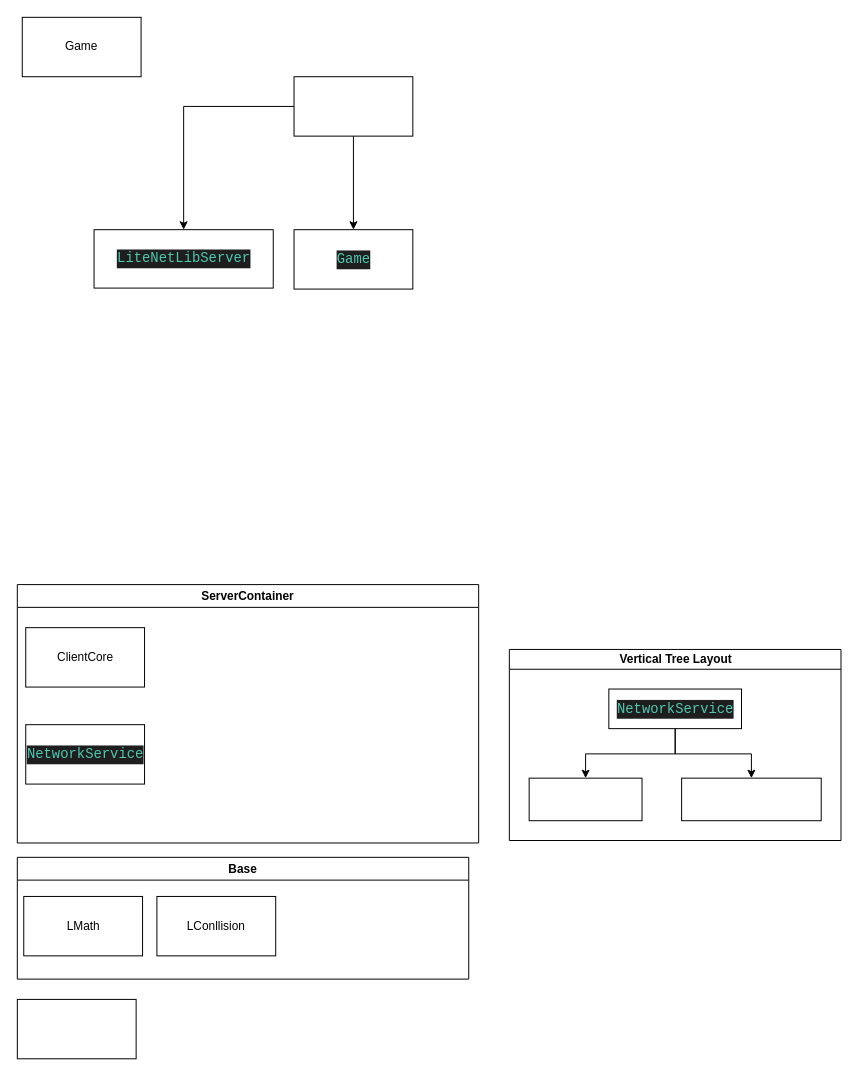
The diagram is 858 pixels wide and 1076 high, and some of its shapes have lost their labels. Each missing label, with the centre of its shape:
"NetworkMsgHandler" goes at [751,799].
"RoomMsgManager" goes at [585,799].
"Server" goes at [353,106].
